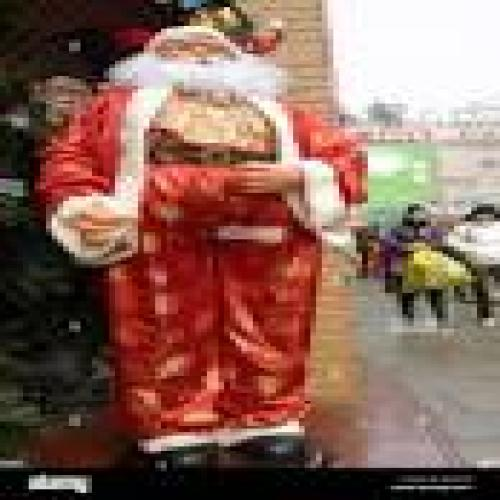Santa: (30, 16, 374, 472)
